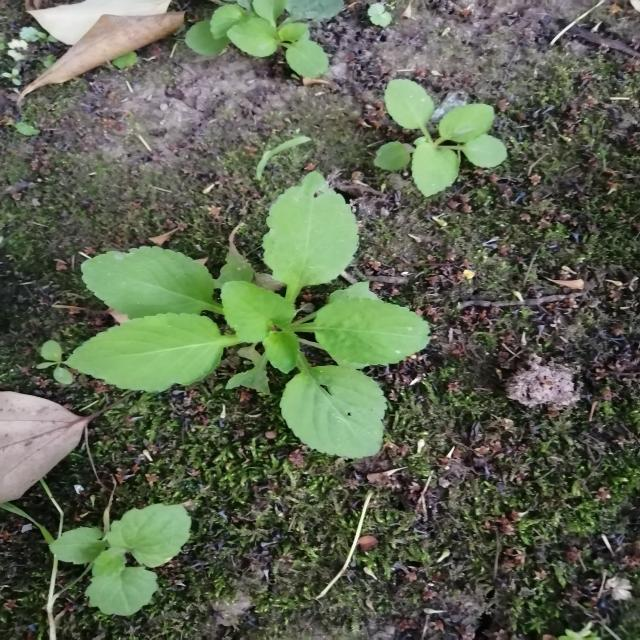Viola: (98, 205, 468, 461)
